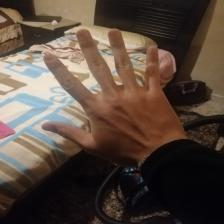five: (38, 27, 182, 159)
